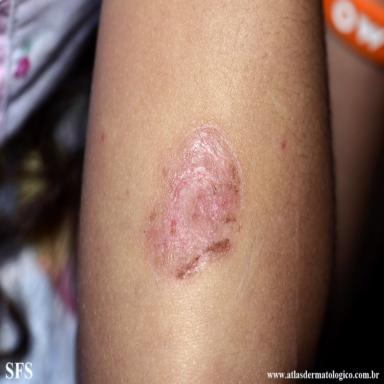Impetigo: (141, 121, 246, 284)
